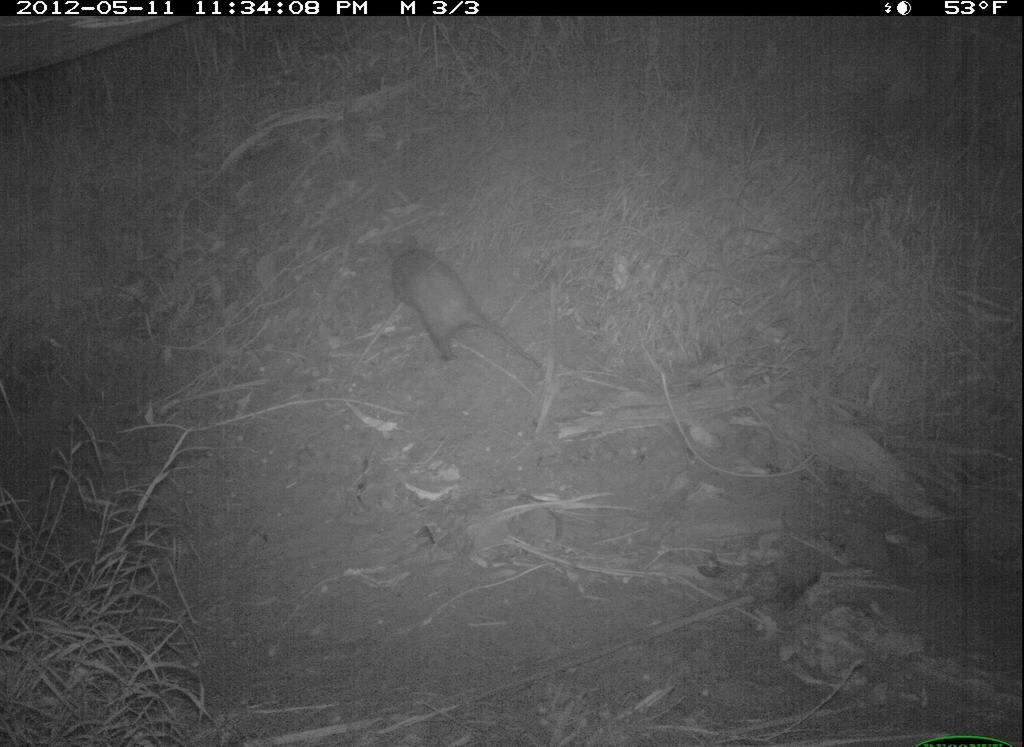opossum: (378, 228, 556, 400)
